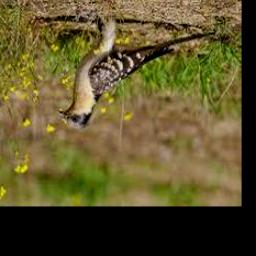Cuckoo: (58, 16, 214, 129)
